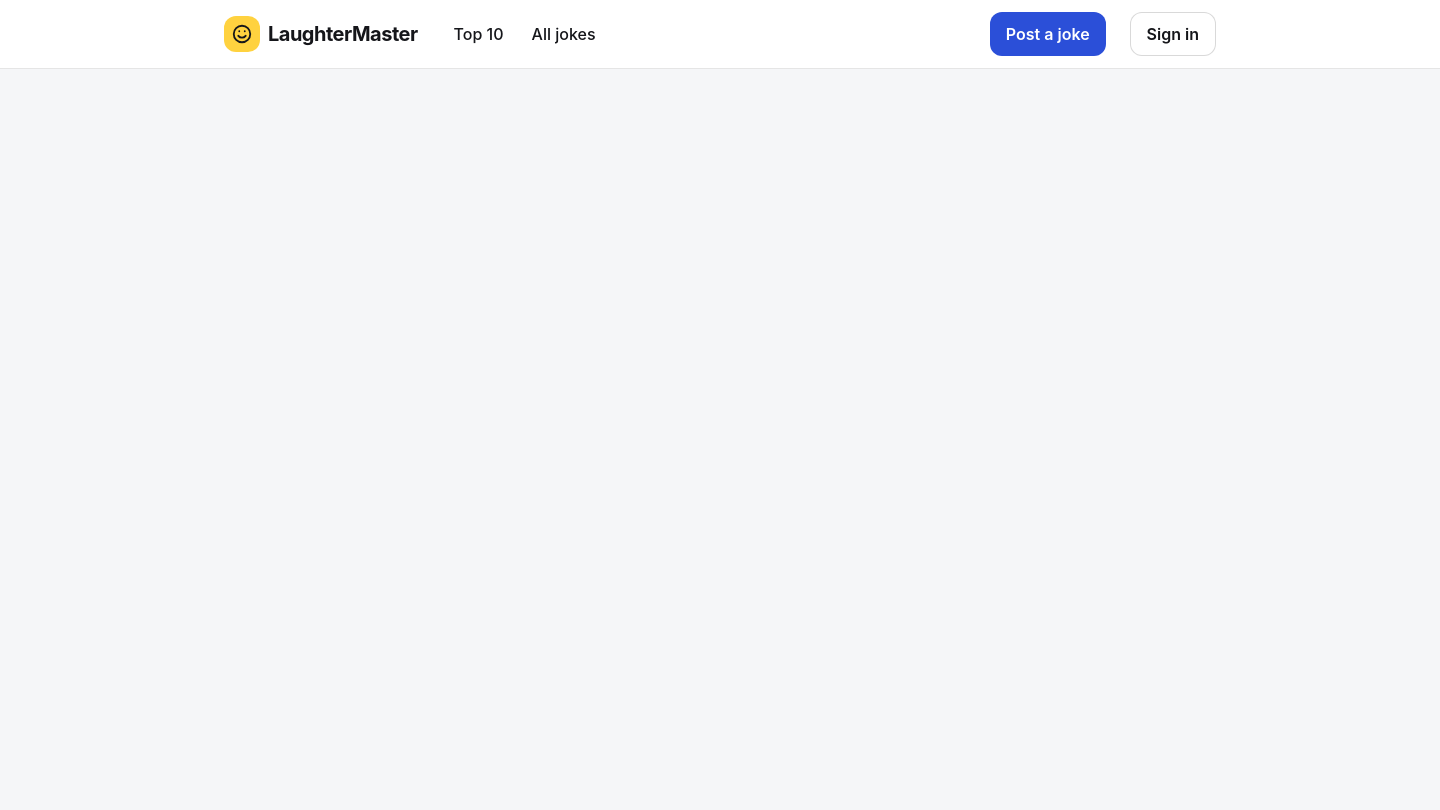
it: SiteHeader › logged out › Sign in opens the dialog titled Sign in to LaughterMaster
Click the button "Sign in": [1173, 34] box [1130, 12, 1216, 56]
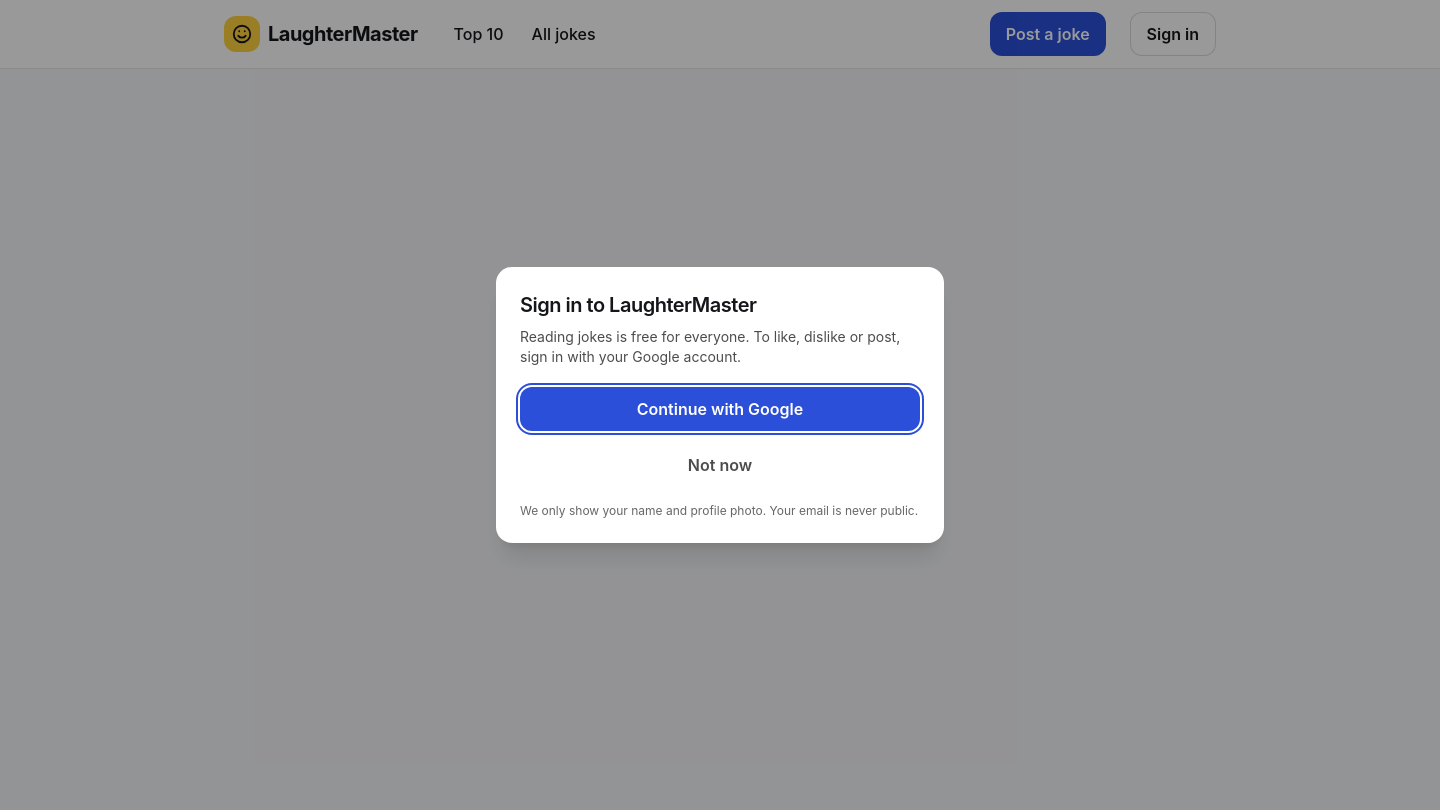
Now the dialog "Sign in to LaughterMaster" is shown, box [496, 267, 944, 543]
